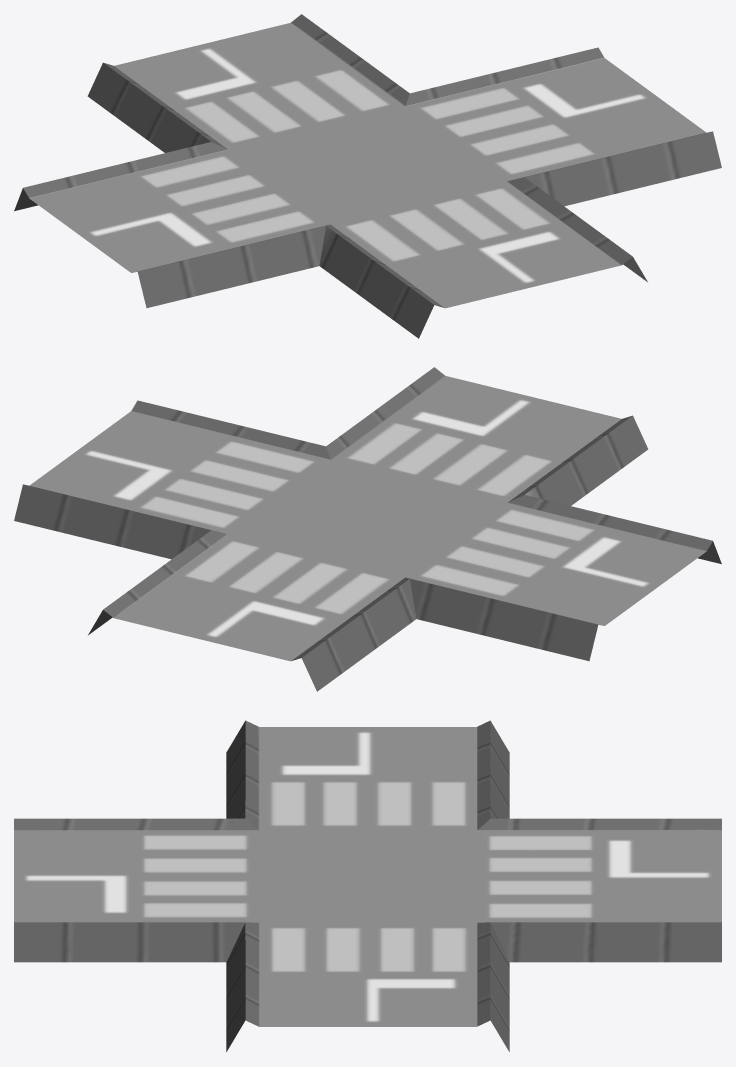
The model's file is co_Street_Asphalted_A_Cross.fbx.
The picture shows the model from 3 angles, top to bottom: view 1: azimuth 30°, elevation 25°; view 2: azimuth 150°, elevation 25°; view 3: azimuth 270°, elevation 25°; orthographic projection. The views are drawn at different scales.
Parts seen in each view (by area): view 1: Street_Asphalted_A_Cross; view 2: Street_Asphalted_A_Cross; view 3: Street_Asphalted_A_Cross.
Boxes of the visible parts, bbox=[...] form: Street_Asphalted_A_Cross: bbox=[14, 14, 721, 338]; Street_Asphalted_A_Cross: bbox=[14, 367, 721, 691]; Street_Asphalted_A_Cross: bbox=[14, 720, 721, 1051].
Bounding box in the file's own units: 2507 × 125 × 2500.
